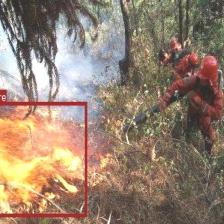fire: (0, 101, 86, 216)
